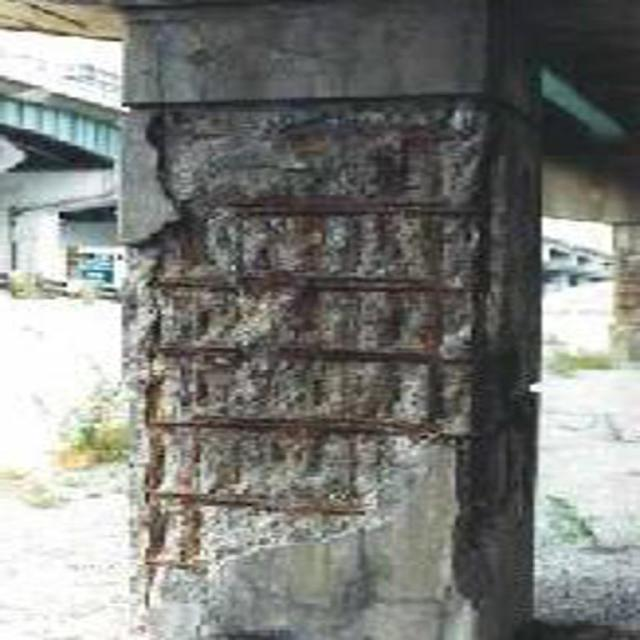spalling: (118, 92, 546, 637)
